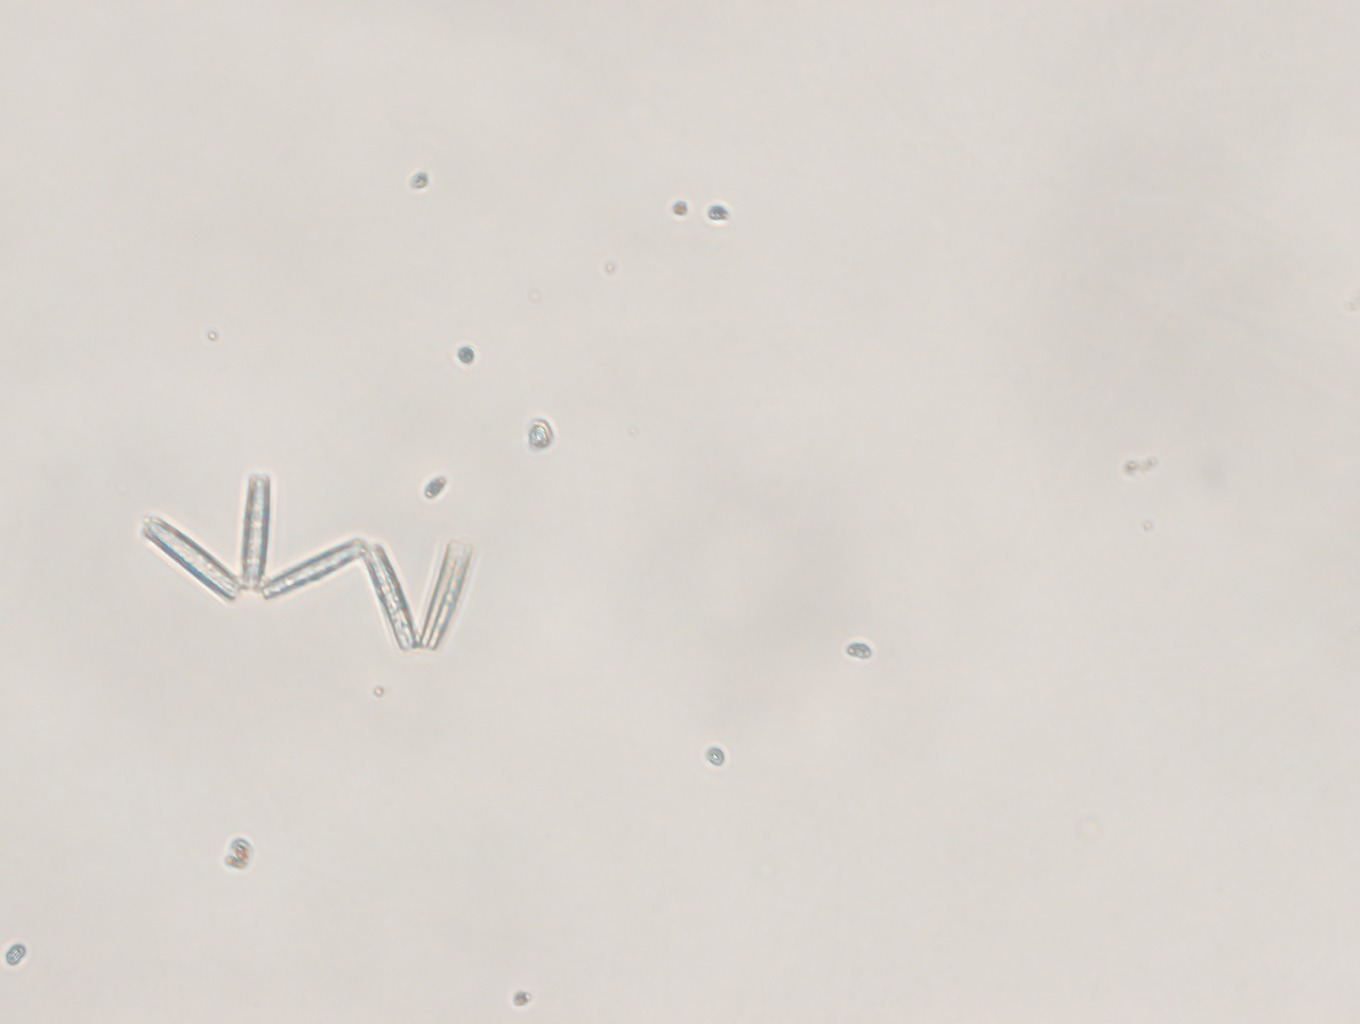thalassionema nitzschioides: (142, 470, 490, 666)
